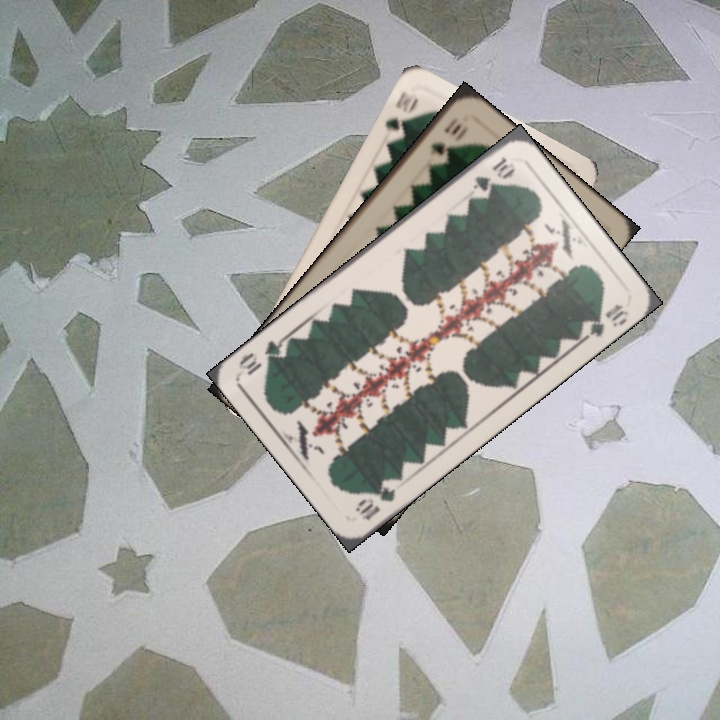G10: (381, 86, 422, 145), (469, 152, 518, 195), (351, 480, 398, 523), (425, 112, 465, 158)
